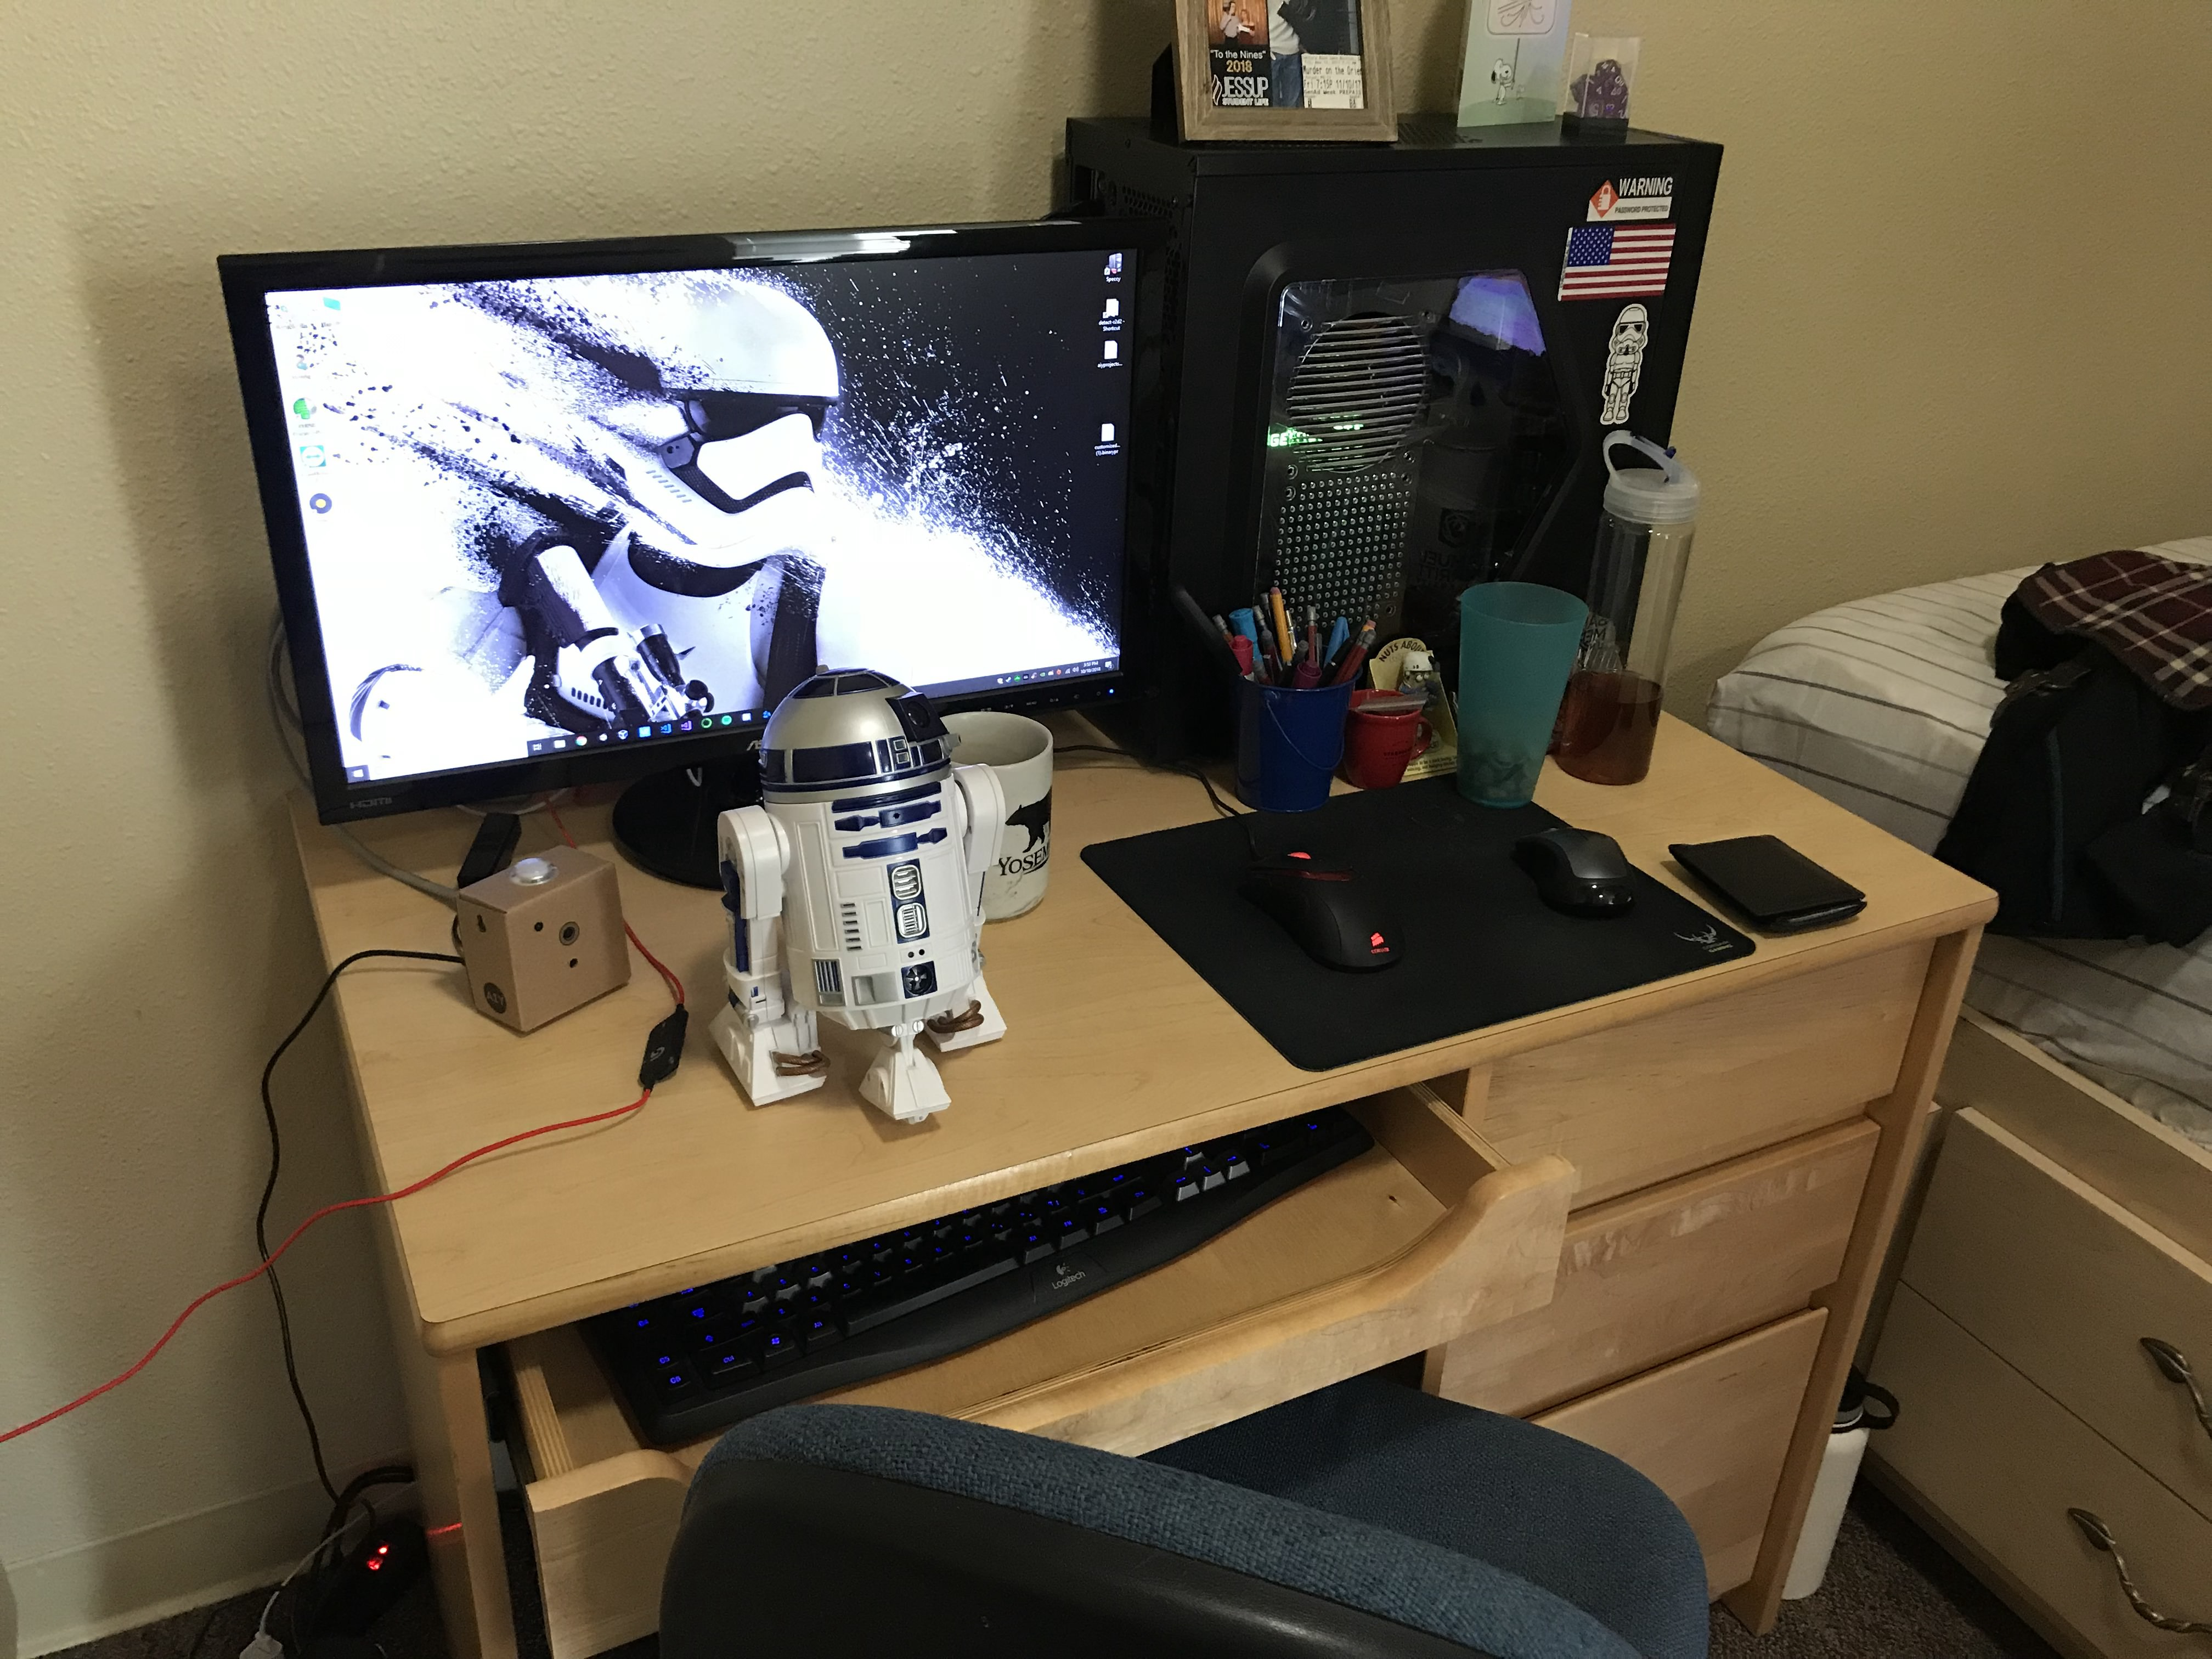r2d2: (707, 667, 1010, 1127)
